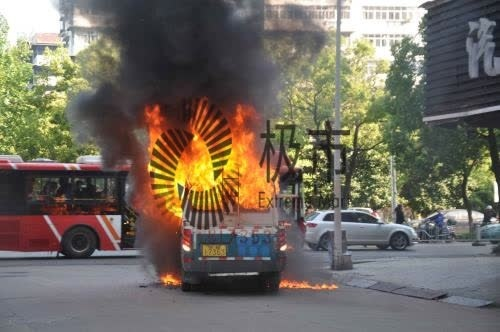fire: (141, 98, 284, 214), (276, 273, 342, 293), (160, 268, 183, 286)
